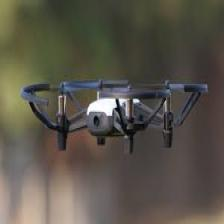drone: (22, 80, 205, 152)
